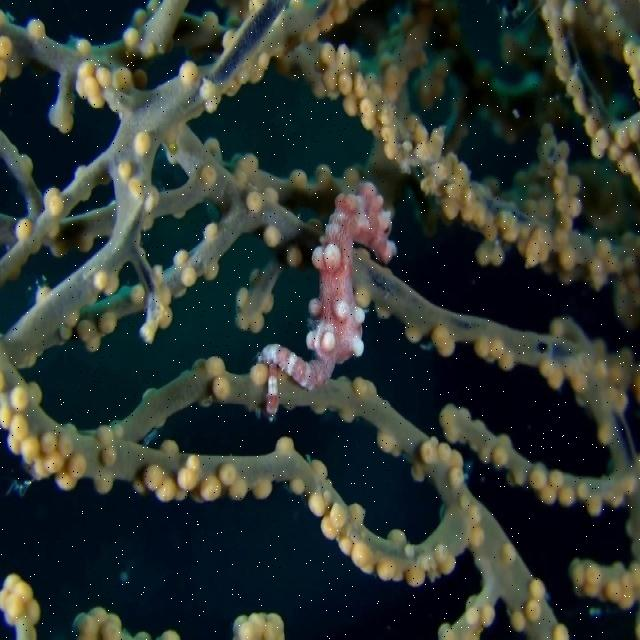reefs: (0, 0, 639, 639), (257, 178, 396, 423), (0, 573, 40, 639), (71, 607, 152, 638), (232, 612, 285, 637)
